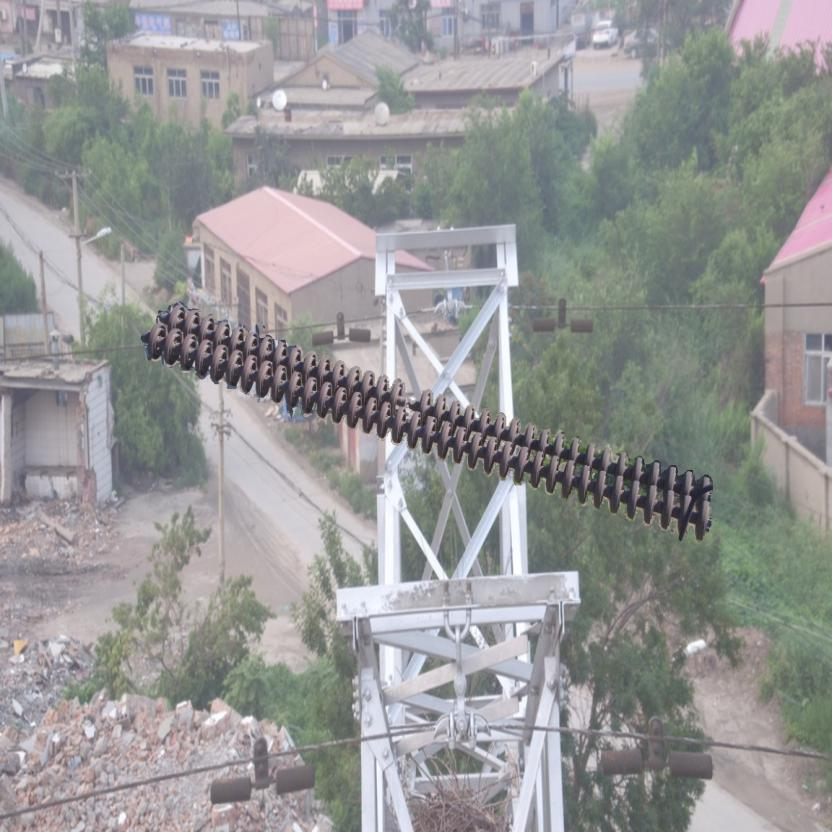defect: (384, 375, 432, 419)
